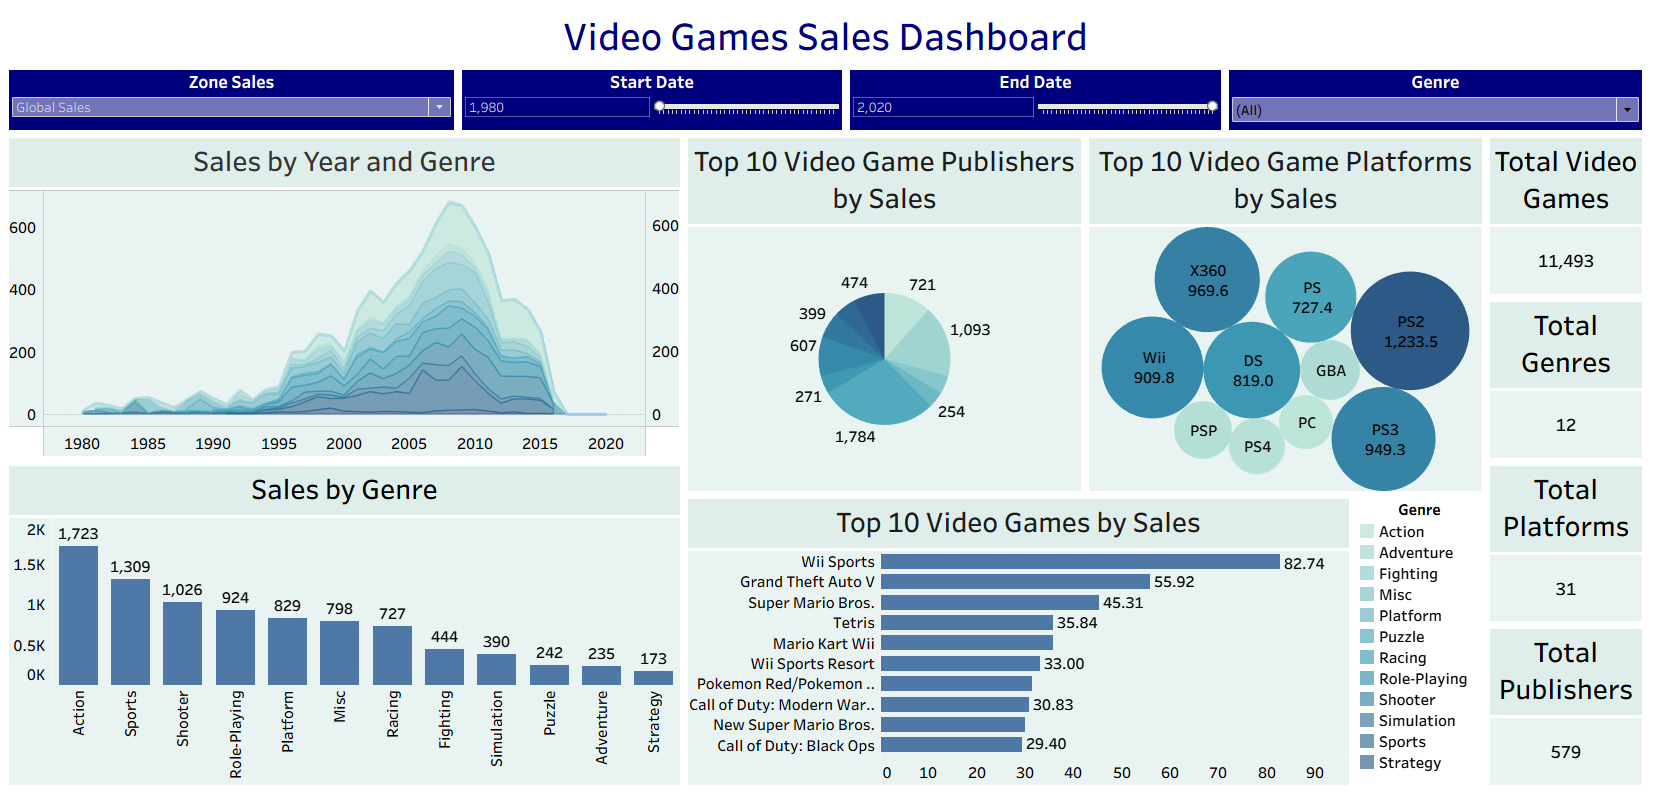

What the dashboard file says about the page in this screenshot:
{"tool":"tableau","page":{"name":"Sales Dashboard","canvas":[1000,1000],"units":"permille","ordinal":0},"visuals":[{"type":"text","box":[4.8,10,990.3,77.5]},{"type":"parameter","param":"[Parameters].[Parameter 1]","box":[4.8,87.5,273.4,85]},{"type":"parameter","param":"[Parameters].[Parameter 2]","box":[278.2,87.5,234.1,85]},{"type":"parameter","param":"[Parameters].[Parameter 3]","box":[512.3,87.5,228.5,85]},{"type":"filter","title":"Sales by Year and Genre","param":"[federated.060c0r708r5tme1cyqv201bpyo4j].[none:Genre:nk]","box":[740.8,87.5,254.4,85]},{"type":"worksheet","title":"Sales by Year and Genre","mark":"Automatic","rows":["Calculation_1548675348296589312","Calculation_1548675348296589312"],"cols":["Year"],"box":[4.8,172.5,409.9,408.8]},{"type":"worksheet","title":"Top 10 Video Game Publishers by Sales","mark":"Pie","box":[414.7,172.5,241.9,450.5]},{"type":"worksheet","title":"Top 10 Video Game Platforms by Sales","mark":"Circle","box":[656.7,172.5,241.9,450.5]},{"type":"worksheet","title":"Total Video Games","mark":"Automatic","box":[898.6,172.5,96.6,204.4]},{"type":"worksheet","title":"Total Genres","mark":"Automatic","box":[898.6,376.9,96.6,204.4]},{"type":"worksheet","title":"Sales by Genre","mark":"Automatic","rows":["Calculation_1548675348296589312"],"cols":["Genre"],"box":[4.8,581.2,409.9,408.8]},{"type":"worksheet","title":"Total Platforms","mark":"Automatic","box":[898.6,581.2,96.6,204.4]},{"type":"worksheet","title":"Top 10 Video Games by Sales","mark":"Automatic","rows":["Name"],"cols":["Calculation_1548675348296589312"],"box":[414.7,623,403.8,367]},{"type":"legend","title":"Sales by Year and Genre","param":"[federated.060c0r708r5tme1cyqv201bpyo4j].[none:Genre:nk]","box":[818.6,623,80,367]},{"type":"worksheet","title":"Total Publishers","mark":"Automatic","box":[898.6,785.6,96.6,204.4]}]}

Visuals, with their boxes on the dashboard's canvas, which has no fixed pixel size, in thousandths of its width and height (x1, y1, x2, y2). These are canvas units, not pixel positions in the 1654x796 screenshot, which may show the page scaled, cropped or inside an application window:
text: [5,10,995,88]
parameter: [5,88,278,172]
parameter: [278,88,512,172]
parameter: [512,88,741,172]
"Sales by Year and Genre" filter: [741,88,995,172]
"Sales by Year and Genre" worksheet: [5,172,415,581]
"Top 10 Video Game Publishers by Sales" worksheet (Pie marks): [415,172,657,623]
"Top 10 Video Game Platforms by Sales" worksheet (Circle marks): [657,172,899,623]
"Total Video Games" worksheet: [899,172,995,377]
"Total Genres" worksheet: [899,377,995,581]
"Sales by Genre" worksheet: [5,581,415,990]
"Total Platforms" worksheet: [899,581,995,786]
"Top 10 Video Games by Sales" worksheet: [415,623,818,990]
"Sales by Year and Genre" legend: [819,623,899,990]
"Total Publishers" worksheet: [899,786,995,990]
